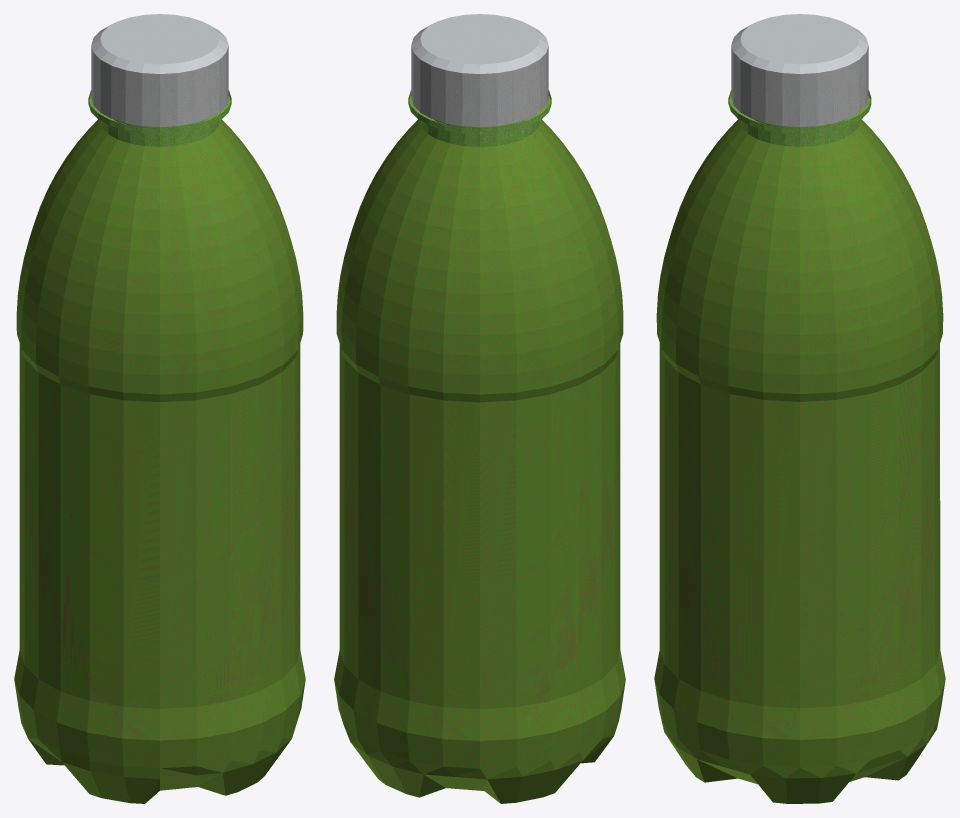
3 renders of one model, left to right at view 1: azimuth 30°, elevation 25°; view 2: azimuth 150°, elevation 25°; view 3: azimuth 270°, elevation 25°, orthographic.
Visible parts, largest first — view 1: mesh2.001_mesh2-geometry; view 2: mesh2.001_mesh2-geometry; view 3: mesh2.001_mesh2-geometry.
Part boxes in pixels (x1,y1,x2,y2): mesh2.001_mesh2-geometry: (14, 14, 305, 803); mesh2.001_mesh2-geometry: (334, 14, 625, 803); mesh2.001_mesh2-geometry: (654, 14, 945, 803).
Bounding box in the file's own units: 0.3271 × 0.8866 × 0.3271.
